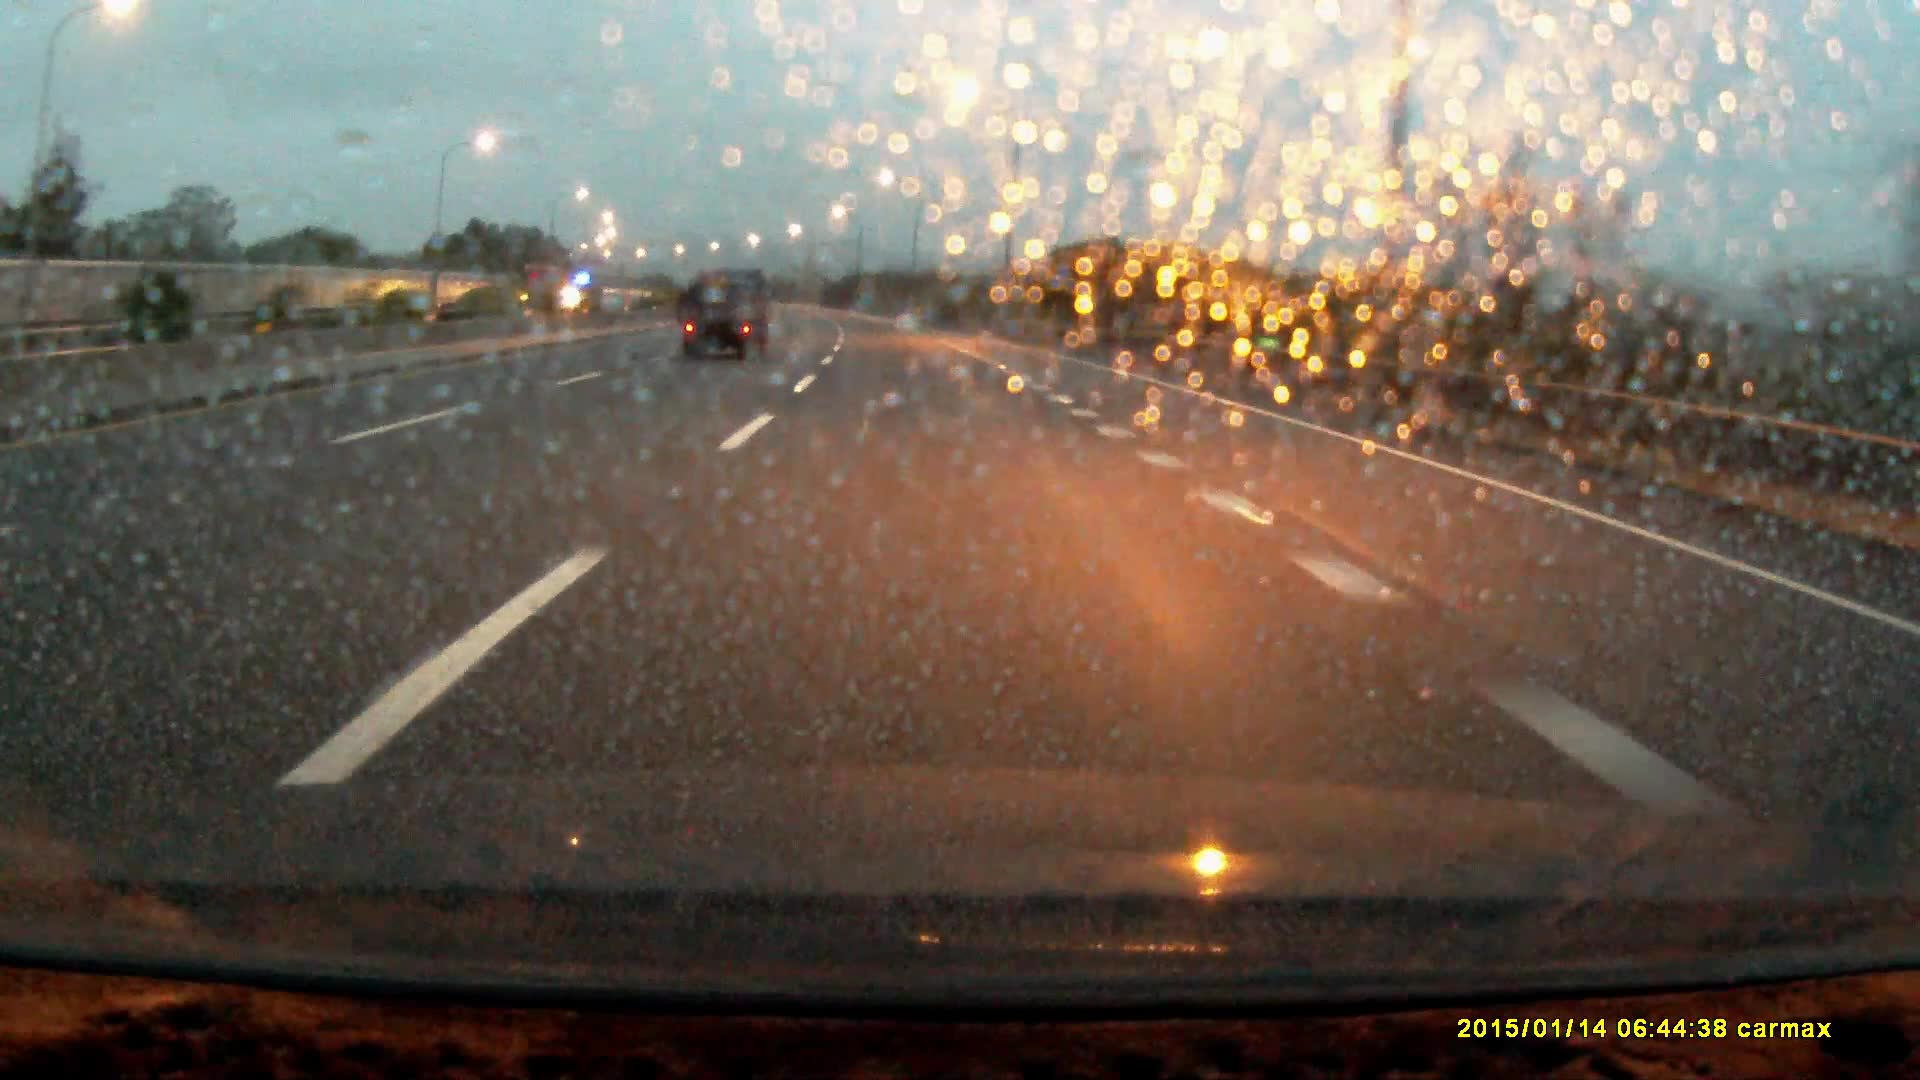vehicle: (683, 265, 767, 361), (512, 262, 568, 310)
